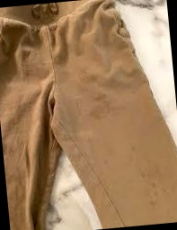oil: (78, 88, 111, 128), (124, 143, 139, 155)
